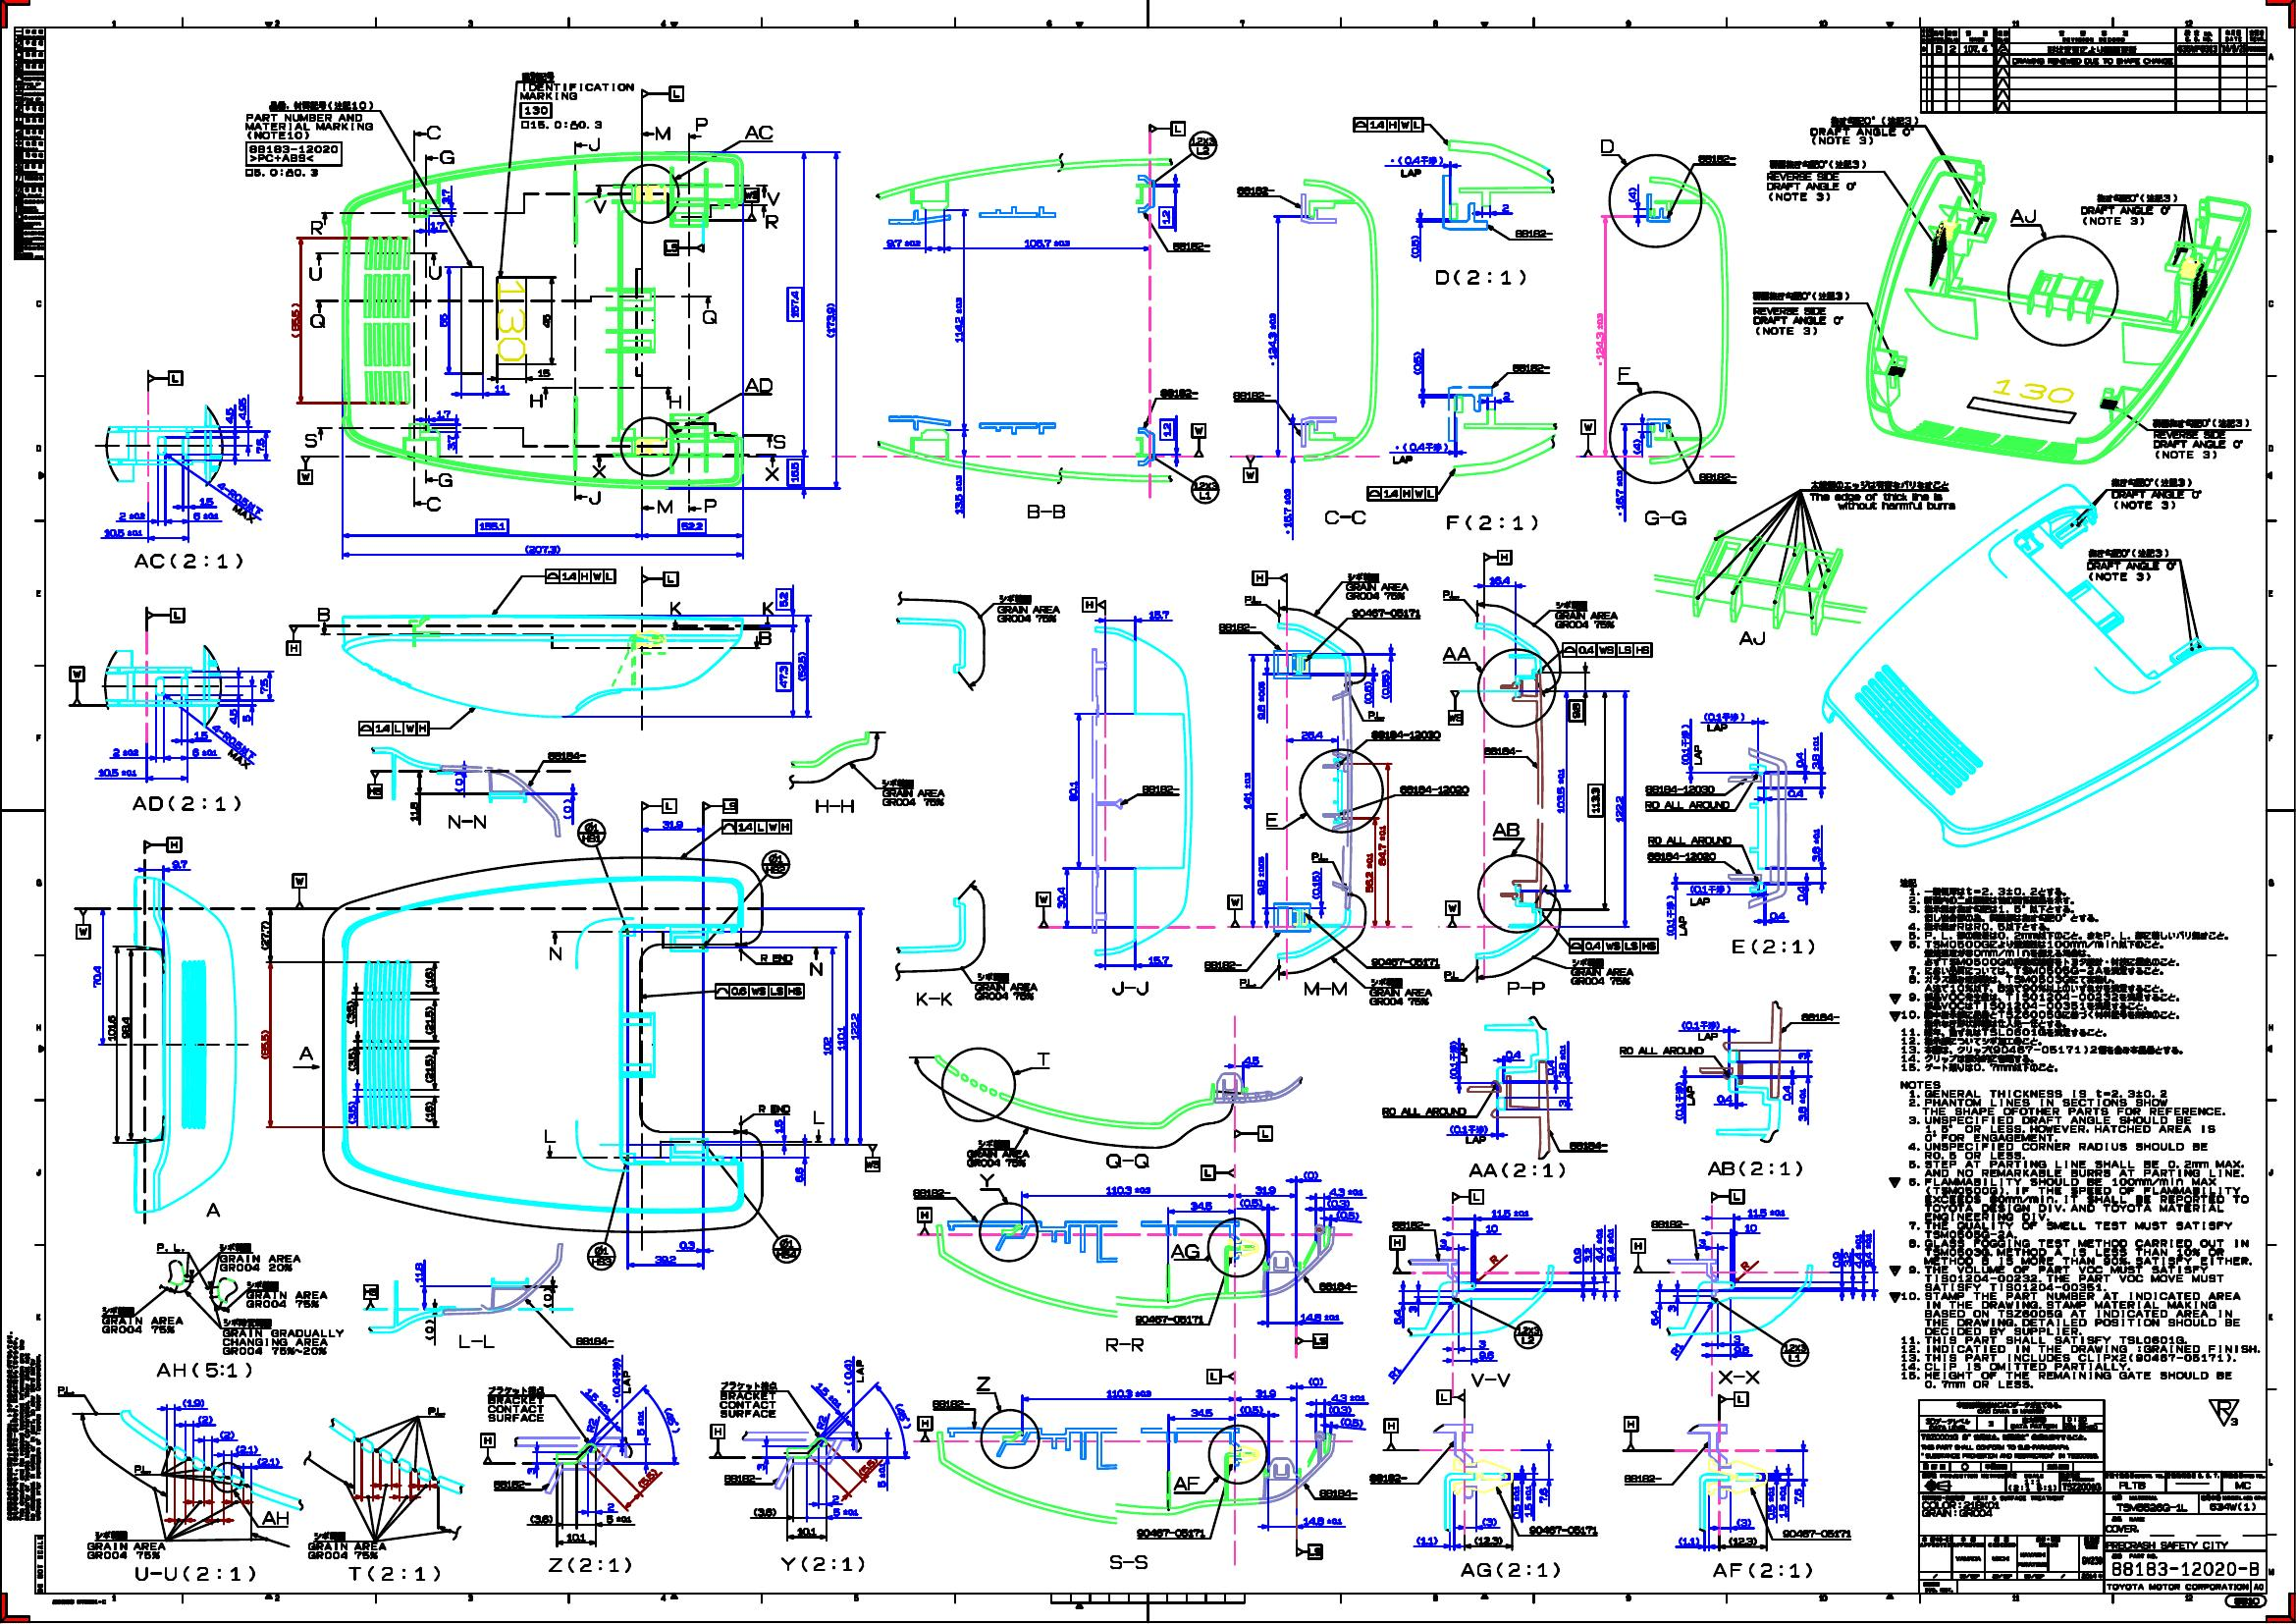anntotation_text: (1888, 1077, 2261, 1390), (1887, 877, 2227, 1074), (244, 98, 374, 179), (4, 1330, 42, 1522), (518, 70, 634, 130), (1764, 156, 1867, 206), (1751, 290, 1850, 341), (1808, 480, 1957, 511), (2150, 417, 2249, 462), (221, 1318, 344, 1353), (1808, 114, 1918, 146), (2080, 192, 2180, 225), (2085, 547, 2177, 582), (2110, 478, 2201, 510), (216, 1241, 302, 1271), (132, 550, 244, 573), (84, 1529, 165, 1561), (102, 1304, 184, 1334), (306, 1529, 386, 1559), (132, 1564, 256, 1584), (246, 1280, 329, 1308), (718, 1380, 778, 1418), (487, 1383, 545, 1422), (130, 793, 242, 812), (1432, 265, 1530, 286), (1456, 1561, 1563, 1580), (1713, 1561, 1815, 1580), (546, 1554, 632, 1577), (964, 1137, 1029, 1167), (996, 592, 1061, 622), (880, 777, 945, 807), (155, 1360, 253, 1380), (1469, 1160, 1567, 1179), (1555, 599, 1618, 629), (1569, 958, 1634, 986), (1368, 977, 1432, 1005), (975, 972, 1038, 1000), (1706, 1158, 1804, 1176), (1444, 513, 1541, 531), (348, 1564, 444, 1582), (1346, 573, 1409, 599), (778, 1554, 864, 1573), (1732, 937, 1816, 956), (715, 982, 805, 1000), (1560, 642, 1651, 657), (1391, 441, 1449, 464), (207, 492, 269, 513), (204, 736, 264, 758), (1569, 939, 1658, 953), (1646, 833, 1732, 847), (1351, 116, 1423, 132), (1390, 156, 1442, 178), (2206, 1396, 2242, 1427), (545, 568, 615, 584), (1644, 798, 1732, 810), (771, 1232, 803, 1265), (1367, 487, 1439, 501), (1688, 882, 1732, 905), (1189, 473, 1221, 504), (611, 1355, 632, 1403), (583, 1241, 617, 1271), (720, 819, 791, 833), (360, 721, 430, 735), (1679, 722, 1702, 765), (1679, 1018, 1722, 1040), (576, 817, 606, 849), (1780, 1336, 1809, 1367), (1665, 895, 1688, 935), (1618, 1046, 1704, 1056), (1381, 1106, 1467, 1116), (1188, 130, 1217, 160), (1702, 712, 1748, 731), (1646, 849, 1716, 861), (1133, 1313, 1203, 1325), (1370, 728, 1440, 740), (1351, 606, 1421, 619), (813, 796, 857, 816), (1514, 1320, 1542, 1350), (1026, 501, 1068, 520), (1449, 1123, 1488, 1144), (1674, 1081, 1695, 1120), (1321, 508, 1372, 524), (1643, 508, 1688, 526), (761, 849, 789, 877), (843, 1359, 864, 1396), (1643, 784, 1715, 794), (1370, 956, 1442, 967), (1398, 784, 1470, 794), (1448, 1040, 1467, 1079), (455, 1332, 497, 1350), (1103, 1336, 1145, 1353), (641, 84, 683, 102), (1781, 1527, 1852, 1538), (35, 1534, 47, 1594), (1105, 1153, 1151, 1169), (1303, 981, 1349, 997), (1137, 1527, 1205, 1538), (142, 835, 183, 852), (912, 991, 956, 1007), (1716, 1369, 1760, 1385), (743, 123, 775, 144), (69, 664, 84, 707), (446, 814, 487, 830), (664, 239, 704, 255), (1108, 1554, 1149, 1570), (1470, 1371, 1511, 1387), (1527, 1526, 1599, 1534), (148, 369, 183, 387), (1709, 1186, 1744, 1204), (639, 798, 678, 814), (1235, 1125, 1274, 1141), (1112, 979, 1151, 995), (146, 608, 184, 624), (1623, 1413, 1639, 1452), (2224, 1594, 2266, 1608), (1505, 981, 1548, 995), (1170, 1243, 1203, 1260), (292, 874, 307, 910), (1147, 120, 1184, 135), (641, 571, 678, 587), (1630, 1237, 1646, 1274), (1390, 1236, 1405, 1271), (745, 376, 773, 395), (74, 907, 90, 940), (1383, 1417, 1398, 1450), (1200, 1165, 1233, 1181), (295, 455, 313, 485), (1231, 388, 1274, 401), (1036, 891, 1051, 928), (931, 1397, 973, 1410), (480, 1432, 495, 1464), (1158, 387, 1198, 399), (1318, 1280, 1358, 1292), (1801, 1011, 1841, 1023), (1191, 422, 1205, 457), (703, 798, 738, 812), (49, 1596, 105, 1605), (1442, 645, 1470, 663), (1251, 571, 1286, 585), (1207, 1367, 1235, 1385), (757, 951, 796, 963), (1142, 782, 1180, 794), (1623, 1471, 1662, 1483), (1736, 629, 1765, 645), (260, 1510, 290, 1526), (1296, 1332, 1326, 1348), (1448, 691, 1462, 724), (1581, 420, 1593, 457), (2010, 207, 2038, 223), (1697, 473, 1739, 483), (1491, 821, 1520, 837), (1483, 548, 1511, 564), (1226, 895, 1240, 926), (286, 624, 300, 656), (1172, 1475, 1200, 1490), (1718, 1392, 1750, 1406), (1437, 1388, 1465, 1404), (1451, 1190, 1483, 1204), (362, 1283, 379, 1308), (1697, 151, 1737, 162), (1513, 228, 1553, 239), (574, 1336, 615, 1346), (1567, 1141, 1607, 1151), (722, 1473, 762, 1483), (1367, 1473, 1407, 1483), (1391, 1220, 1432, 1230), (367, 770, 381, 800), (1242, 455, 1258, 482), (864, 1144, 880, 1171), (1444, 900, 1460, 926), (1296, 1543, 1323, 1559), (917, 1417, 933, 1443), (757, 1102, 791, 1114), (745, 186, 757, 220), (494, 1478, 532, 1489), (1203, 960, 1242, 970), (1082, 596, 1105, 613), (917, 1207, 931, 1236), (711, 1425, 724, 1457), (545, 750, 588, 759), (1170, 241, 1212, 250), (912, 1188, 952, 1197), (1483, 745, 1523, 754), (1217, 622, 1258, 631), (1318, 1489, 1358, 1497), (1650, 1220, 1690, 1229), (1513, 364, 1551, 373), (1237, 186, 1275, 195), (541, 1127, 559, 1146), (307, 218, 325, 237), (587, 135, 604, 155), (594, 195, 611, 214), (655, 121, 673, 141), (694, 112, 711, 132), (762, 188, 780, 207), (762, 213, 780, 232), (699, 497, 717, 517), (655, 496, 673, 515), (527, 390, 545, 410), (437, 471, 455, 490), (307, 264, 325, 283), (666, 599, 683, 619), (314, 605, 332, 624), (155, 1241, 184, 1251), (1599, 137, 1616, 155), (666, 390, 683, 408), (590, 462, 608, 480), (587, 492, 604, 510), (309, 313, 327, 330), (978, 1172, 996, 1190), (812, 1107, 827, 1127), (808, 961, 824, 981), (548, 942, 564, 961), (427, 121, 443, 141), (699, 308, 715, 327), (764, 462, 780, 482), (300, 431, 316, 450), (427, 265, 443, 285), (761, 601, 776, 620), (130, 1462, 153, 1475), (204, 1202, 221, 1218), (1035, 1049, 1051, 1067), (439, 148, 455, 165), (773, 432, 789, 450), (425, 497, 441, 515), (757, 629, 773, 647), (975, 1374, 991, 1392), (1265, 810, 1279, 830), (297, 1044, 313, 1060), (1618, 364, 1632, 381), (54, 1385, 77, 1396), (425, 1404, 444, 1417), (1440, 587, 1460, 599), (1442, 968, 1460, 981), (1238, 977, 1258, 988), (1310, 851, 1330, 861), (1367, 708, 1384, 719), (1244, 596, 1263, 605)
dimension_text: (1265, 311, 1277, 367), (1593, 311, 1606, 366), (1281, 487, 1293, 538), (787, 286, 803, 322), (952, 473, 964, 517), (954, 295, 964, 344), (1614, 468, 1625, 517), (1105, 1388, 1152, 1399), (1588, 784, 1604, 816), (474, 518, 509, 533), (1105, 1185, 1151, 1195), (847, 1011, 863, 1040), (824, 302, 836, 339), (1298, 1311, 1340, 1322), (787, 459, 803, 487), (1377, 824, 1388, 866), (775, 663, 791, 691), (95, 766, 137, 777), (102, 529, 144, 540), (1022, 239, 1072, 248), (1490, 1207, 1530, 1218), (1256, 854, 1267, 895), (678, 518, 704, 534), (1556, 766, 1565, 814), (1776, 1485, 1788, 1519), (523, 543, 562, 554), (884, 237, 922, 248), (1303, 1517, 1342, 1527), (1746, 1207, 1785, 1218), (1158, 206, 1175, 228), (1567, 698, 1585, 721), (578, 1394, 615, 1404), (666, 1404, 678, 1436), (1328, 1186, 1365, 1197), (1727, 1534, 1758, 1547), (1853, 1232, 1864, 1269), (290, 302, 300, 337), (1864, 1232, 1874, 1267), (812, 1390, 847, 1401), (1330, 1392, 1365, 1403), (1593, 1227, 1604, 1262), (1811, 826, 1822, 861), (1159, 418, 1175, 441), (1365, 851, 1374, 891), (1242, 770, 1251, 810), (1256, 680, 1265, 721), (796, 649, 806, 682), (604, 1513, 632, 1526), (423, 1004, 434, 1035), (1310, 868, 1321, 900), (775, 589, 791, 610), (877, 1462, 889, 1489), (854, 1462, 880, 1475), (1799, 1086, 1808, 1123), (898, 1403, 908, 1432), (422, 1053, 432, 1083), (1767, 1485, 1776, 1520), (1606, 1227, 1614, 1262), (1339, 1417, 1363, 1429), (632, 1475, 661, 1485), (831, 1508, 859, 1519), (105, 1014, 116, 1042), (111, 747, 139, 758), (118, 510, 146, 520), (1558, 1044, 1567, 1077), (1513, 1485, 1521, 1519), (1809, 735, 1818, 768), (1337, 1211, 1360, 1223), (1488, 575, 1511, 587), (260, 919, 269, 951), (260, 1028, 269, 1060), (1412, 350, 1423, 376), (1523, 1485, 1532, 1517), (1381, 668, 1390, 700), (190, 747, 216, 758), (1474, 1536, 1504, 1545), (1614, 794, 1623, 824), (529, 1513, 553, 1524), (754, 1506, 775, 1519), (1254, 1185, 1279, 1195), (820, 1035, 833, 1056), (653, 1255, 678, 1265), (346, 1100, 357, 1125), (1254, 1387, 1275, 1399), (1147, 954, 1172, 965), (191, 511, 220, 520), (413, 1260, 423, 1283), (181, 1397, 204, 1408), (256, 1455, 279, 1466), (564, 1531, 587, 1541), (91, 965, 102, 988), (661, 819, 683, 830), (237, 397, 248, 420), (1678, 1536, 1700, 1547), (541, 1287, 552, 1309), (423, 1318, 434, 1341), (1363, 680, 1374, 703), (1147, 610, 1170, 620), (1068, 780, 1079, 803), (1056, 886, 1066, 909), (678, 1237, 697, 1250), (223, 406, 235, 425), (234, 1445, 260, 1454), (636, 1410, 645, 1436), (1409, 232, 1418, 258), (1238, 1404, 1265, 1413), (796, 1526, 817, 1536), (423, 1100, 434, 1121), (562, 798, 573, 819), (453, 772, 464, 793), (408, 801, 418, 823), (1238, 1199, 1263, 1207), (1189, 1202, 1214, 1211), (836, 1026, 845, 1051), (346, 1000, 355, 1025), (121, 1016, 130, 1040), (195, 1413, 214, 1424), (439, 186, 450, 206), (1732, 1345, 1751, 1355), (1767, 910, 1787, 921), (1326, 1199, 1349, 1207), (348, 1048, 357, 1070), (1189, 1408, 1212, 1417), (1328, 1404, 1351, 1413), (1300, 729, 1323, 738), (1391, 1308, 1402, 1325), (1477, 1350, 1495, 1360), (794, 1165, 805, 1183), (423, 967, 432, 988), (170, 858, 188, 868), (1242, 1055, 1260, 1065), (1715, 1093, 1732, 1104), (1781, 1084, 1792, 1102), (255, 436, 265, 453), (1416, 1536, 1437, 1545), (1792, 1487, 1802, 1504), (1667, 1345, 1685, 1355), (1627, 185, 1635, 204), (220, 1429, 235, 1439), (587, 1417, 597, 1432), (1302, 1169, 1318, 1179), (773, 1118, 783, 1134), (1505, 1049, 1521, 1060), (1307, 1376, 1323, 1387), (1736, 1517, 1751, 1527), (1795, 886, 1806, 902), (199, 496, 214, 506), (1546, 1058, 1555, 1076), (446, 432, 455, 450), (429, 220, 446, 228), (1632, 438, 1641, 455), (1650, 1309, 1658, 1327), (1832, 1250, 1841, 1267), (1572, 1246, 1581, 1264), (1787, 789, 1804, 798), (258, 677, 267, 694), (436, 408, 450, 418), (1483, 1517, 1497, 1527), (1743, 1223, 1757, 1234), (1484, 1223, 1498, 1234), (193, 729, 207, 740), (1386, 1367, 1402, 1376), (437, 313, 446, 329), (817, 1413, 826, 1429), (1539, 1487, 1548, 1503), (1843, 1251, 1852, 1267), (1795, 750, 1804, 766), (228, 708, 237, 724), (538, 367, 550, 378), (1502, 390, 1513, 402), (541, 315, 550, 329), (1667, 1302, 1678, 1313), (1741, 1260, 1751, 1271), (1585, 1246, 1592, 1262), (1488, 1253, 1498, 1264), (831, 1492, 840, 1504), (494, 383, 506, 392), (1477, 1339, 1488, 1348), (1556, 1098, 1567, 1107), (1500, 202, 1509, 213), (1407, 1304, 1418, 1313), (1797, 1051, 1808, 1060), (241, 714, 251, 722), (606, 1503, 615, 1512), (1732, 1334, 1741, 1343), (1439, 1237, 1448, 1246), (1699, 1237, 1706, 1248)
object: (321, 854, 766, 1234), (1818, 482, 2261, 847), (336, 146, 748, 494), (1862, 151, 2252, 468), (870, 149, 1177, 489), (339, 610, 747, 719), (936, 1218, 1337, 1325), (933, 1424, 1337, 1527), (1439, 137, 1556, 476), (908, 1053, 1303, 1153), (130, 874, 239, 1213), (1270, 603, 1368, 975), (1087, 624, 1196, 956), (892, 596, 984, 975), (1476, 598, 1560, 982), (1644, 176, 1732, 464), (1651, 527, 1869, 638), (1298, 176, 1381, 462), (365, 1241, 566, 1338), (116, 1408, 304, 1508), (369, 747, 564, 842), (1463, 1014, 1553, 1162), (1405, 1257, 1556, 1343), (1699, 998, 1785, 1146), (1665, 1257, 1815, 1338), (327, 1417, 469, 1496), (102, 404, 221, 496), (102, 649, 227, 733), (1725, 747, 1788, 909), (1433, 1424, 1514, 1534), (1688, 1422, 1767, 1534), (513, 1434, 636, 1496), (740, 1429, 863, 1489), (785, 729, 885, 789), (160, 1255, 248, 1311)
title_block: (1917, 1399, 2266, 1594), (1918, 26, 2268, 112), (12, 26, 46, 260)
